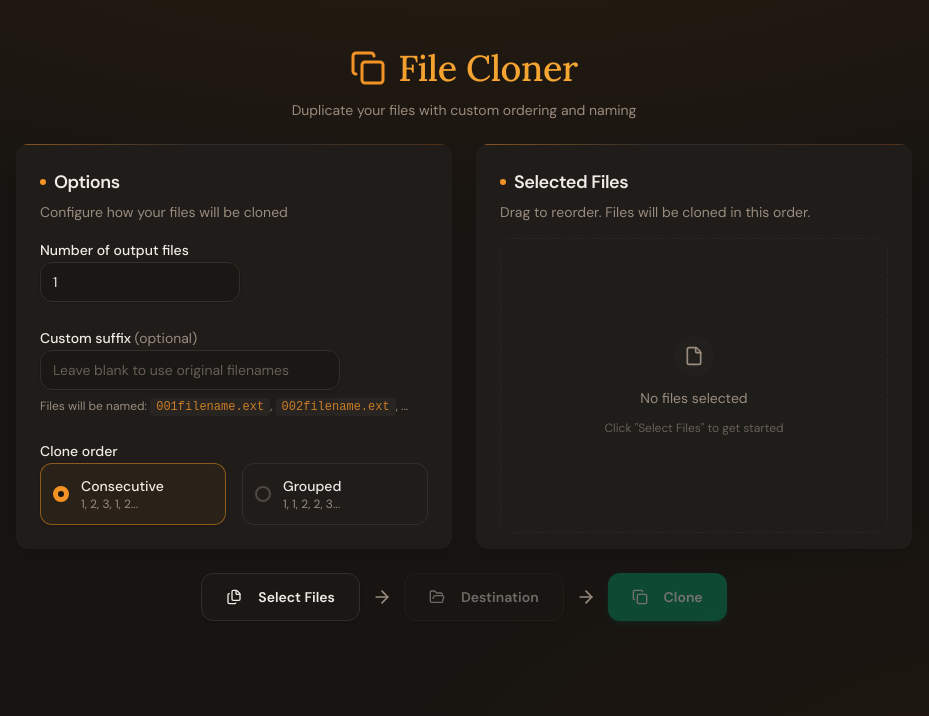
Test: File Cloner App › File Selection › enables destination button after files are selected
Click the button "Select Files". click: point(281, 597)
box: [201, 573, 360, 621]
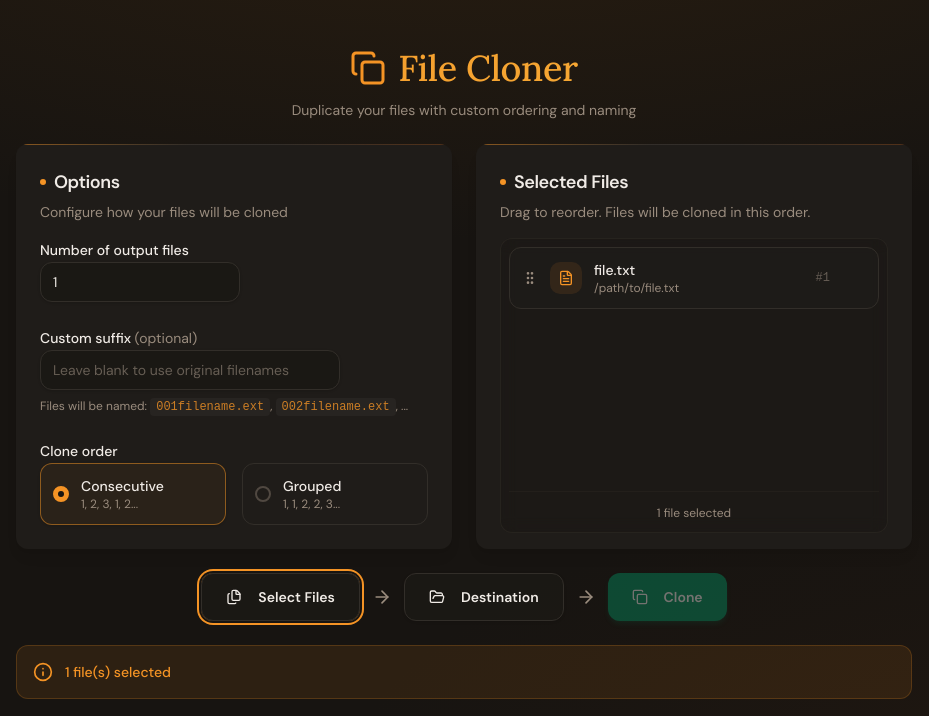
Expected: the button "Destination" is enabled, [404, 573, 564, 621]
